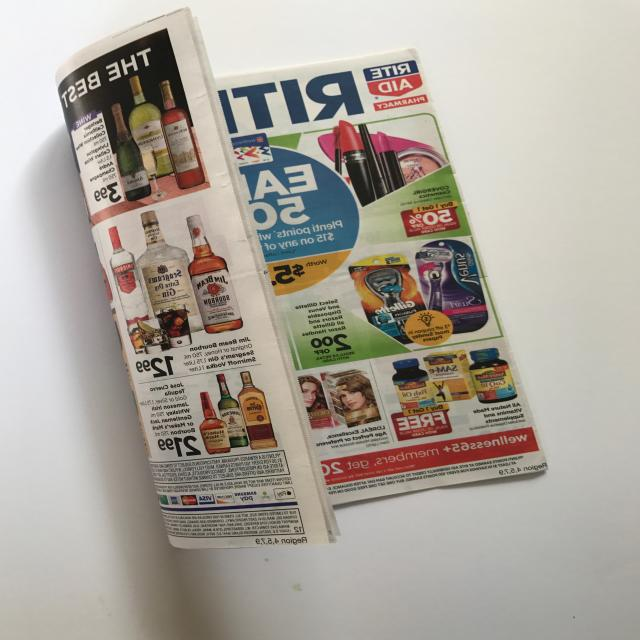paper: (24, 18, 564, 570)
